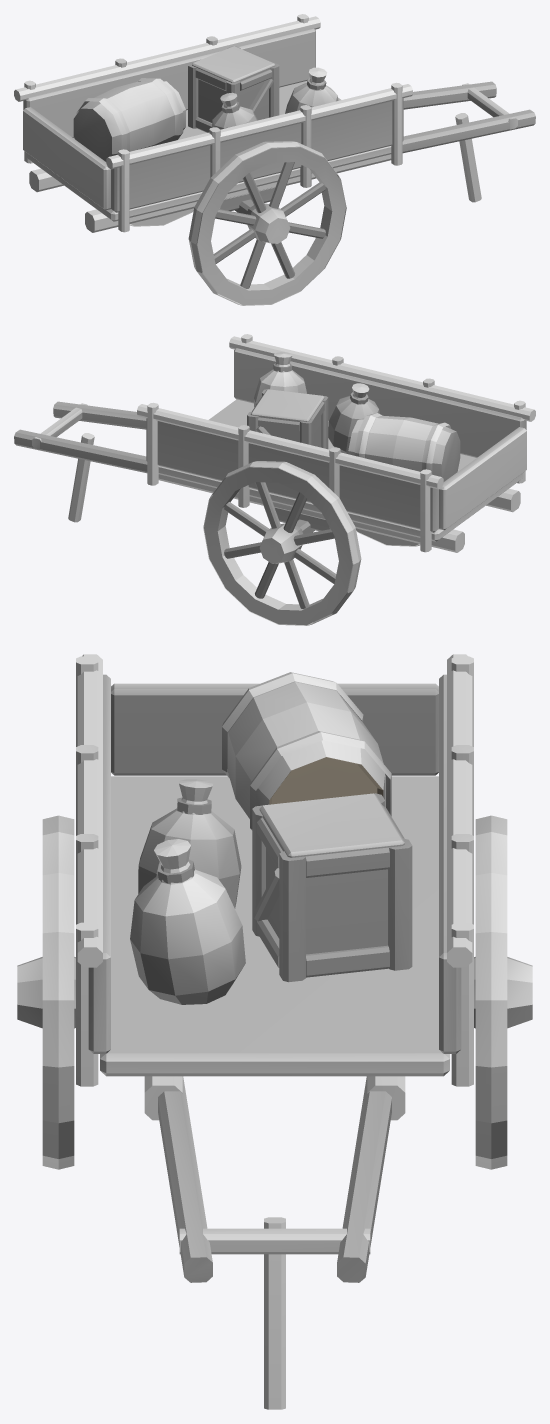
File: cart.glb
3 views of the same model, one above another, from view 1: azimuth 30°, elevation 25°; view 2: azimuth 150°, elevation 25°; view 3: azimuth 270°, elevation 25° (orthographic). The views are drawn at different scales.
Visible parts, largest first — view 1: axle; view 2: axle; view 3: axle.
Boxes of the visible parts, x1,y1,x2,y2 form: axle: (14,14,535,305); axle: (14,334,535,625); axle: (17,654,532,1409).
Size of the model in its own units: 3.28 by 1.33 by 1.62.
